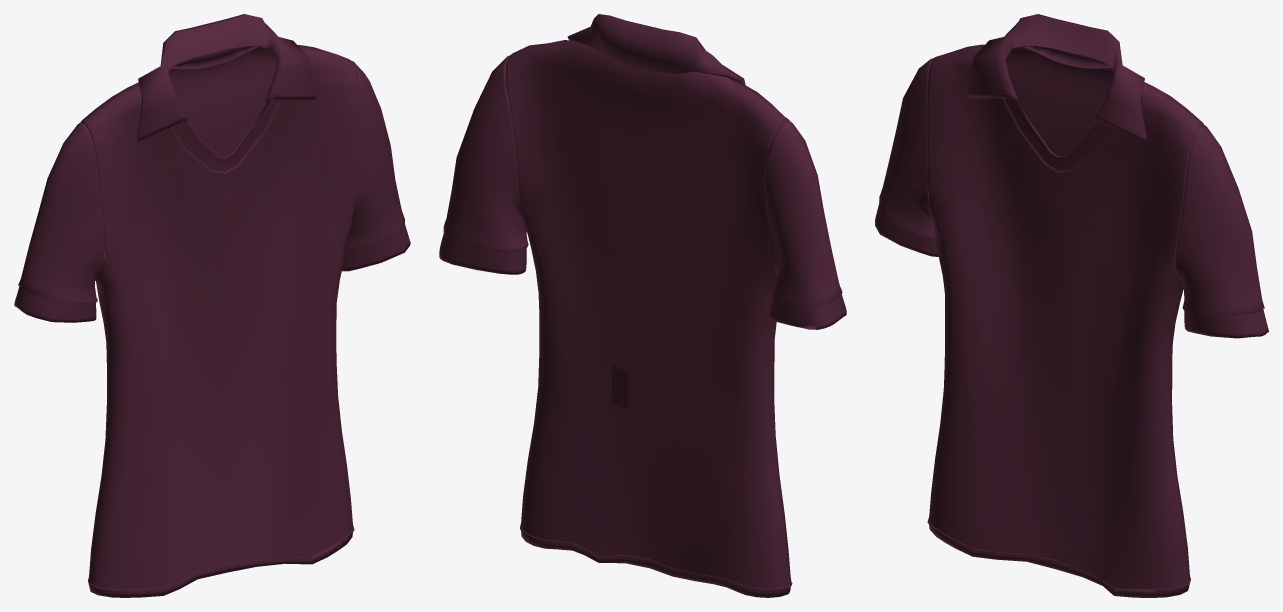
Rendered from T_ShirtA.fbx.
3 renders of one model, left to right at view 1: azimuth 30°, elevation 25°; view 2: azimuth 150°, elevation 25°; view 3: azimuth 330°, elevation 25°, orthographic. The views are drawn at different scales.
Visible parts, largest first — view 1: T_ShirtA; view 2: T_ShirtA; view 3: T_ShirtA.
Boxes of the visible parts, bbox=[...] form: T_ShirtA: bbox=[14, 14, 410, 597]; T_ShirtA: bbox=[439, 14, 846, 597]; T_ShirtA: bbox=[875, 14, 1268, 597].
Bounding box in the file's own units: 61.31 × 80.72 × 11.44.
